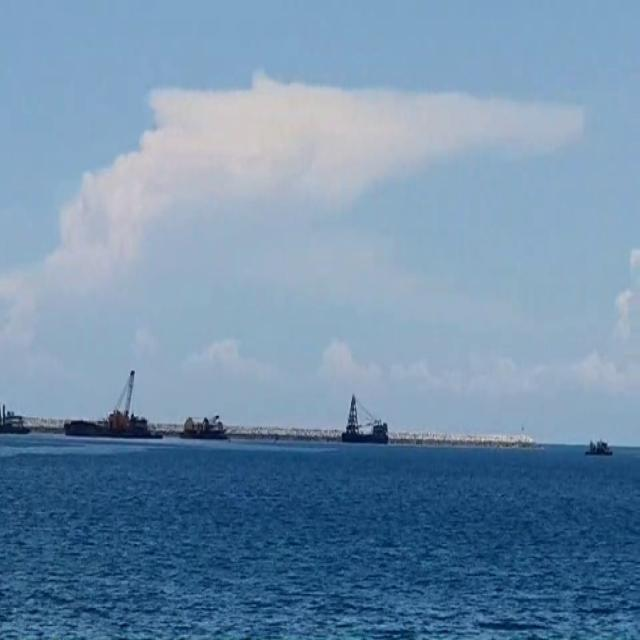civilianship: (59, 369, 169, 451), (333, 395, 402, 455), (181, 397, 243, 451), (582, 424, 620, 472), (6, 396, 44, 443)
